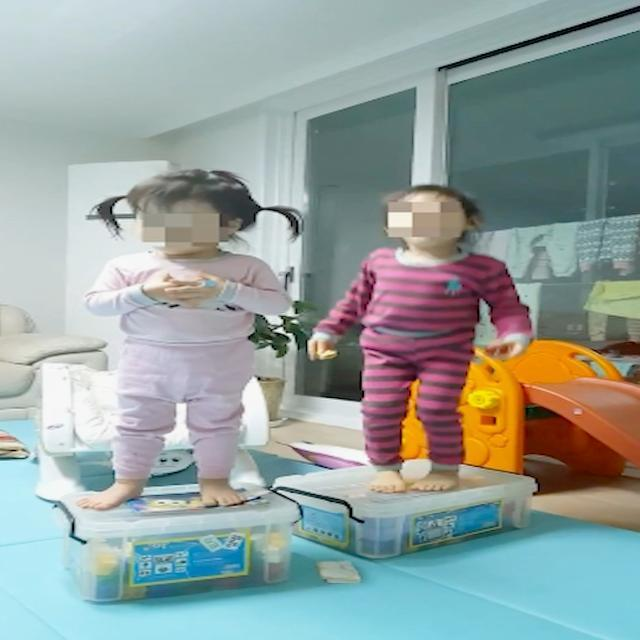child: (78, 167, 295, 511), (307, 185, 533, 493)
